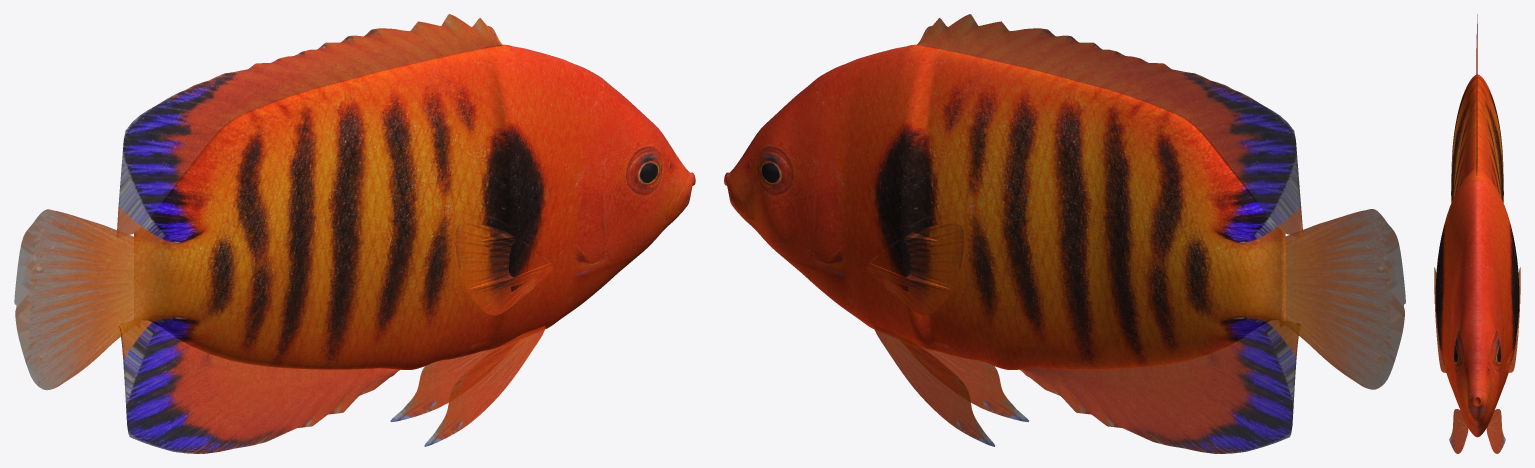
File: loricula-CIj2TDI_.glb
3 views of the same model, side by side, from view 1: azimuth 30°, elevation 25°; view 2: azimuth 150°, elevation 25°; view 3: azimuth 270°, elevation 25° (orthographic). The views are drawn at different scales.
Parts seen in each view (by area): view 1: loricula__body, loricula__fin_2, loricula__fin_1, loricula__fin_0, loricula__gill_1, loricula__pectoral_1, loricula__pelvic_1, loricula__pelvic_-1, loricula__eye_1; view 2: loricula__body, loricula__fin_2, loricula__fin_1, loricula__fin_0, loricula__gill_-1, loricula__pectoral_-1, loricula__pelvic_-1, loricula__pelvic_1, loricula__eye_-1; view 3: loricula__body, loricula__pelvic_1, loricula__pelvic_-1, loricula__gill_1, loricula__gill_-1, loricula__pectoral_1, loricula__pectoral_-1, loricula__fin_1, loricula__eye_1, loricula__eye_-1.
Boxes of the visible parts, bbox=[...] form: loricula__body: bbox=[134, 44, 695, 369]; loricula__fin_2: bbox=[117, 320, 400, 453]; loricula__fin_1: bbox=[117, 14, 503, 237]; loricula__fin_0: bbox=[14, 209, 141, 390]; loricula__gill_1: bbox=[568, 133, 622, 276]; loricula__pectoral_1: bbox=[455, 223, 552, 315]; loricula__pelvic_1: bbox=[424, 325, 545, 446]; loricula__pelvic_-1: bbox=[390, 347, 498, 421]; loricula__eye_1: bbox=[631, 150, 659, 185]; loricula__body: bbox=[724, 44, 1285, 369]; loricula__fin_2: bbox=[1019, 320, 1302, 453]; loricula__fin_1: bbox=[917, 14, 1303, 237]; loricula__fin_0: bbox=[1285, 209, 1405, 389]; loricula__gill_-1: bbox=[796, 133, 851, 276]; loricula__pectoral_-1: bbox=[867, 223, 964, 315]; loricula__pelvic_-1: bbox=[874, 325, 994, 446]; loricula__pelvic_1: bbox=[920, 347, 1028, 421]; loricula__eye_-1: bbox=[760, 150, 787, 185]; loricula__body: bbox=[1435, 74, 1519, 437]; loricula__pelvic_1: bbox=[1449, 409, 1468, 453]; loricula__pelvic_-1: bbox=[1486, 409, 1505, 453]; loricula__gill_1: bbox=[1451, 282, 1457, 392]; loricula__gill_-1: bbox=[1497, 282, 1503, 392]; loricula__pectoral_1: bbox=[1434, 267, 1449, 372]; loricula__pectoral_-1: bbox=[1505, 267, 1520, 372]; loricula__fin_1: bbox=[1476, 14, 1477, 176]; loricula__eye_1: bbox=[1454, 335, 1460, 364]; loricula__eye_-1: bbox=[1494, 335, 1500, 364].
Bounding box in the file's own units: 1.22 × 0.7113 × 0.1628.
Materials: 5 (5 with a texture image).
